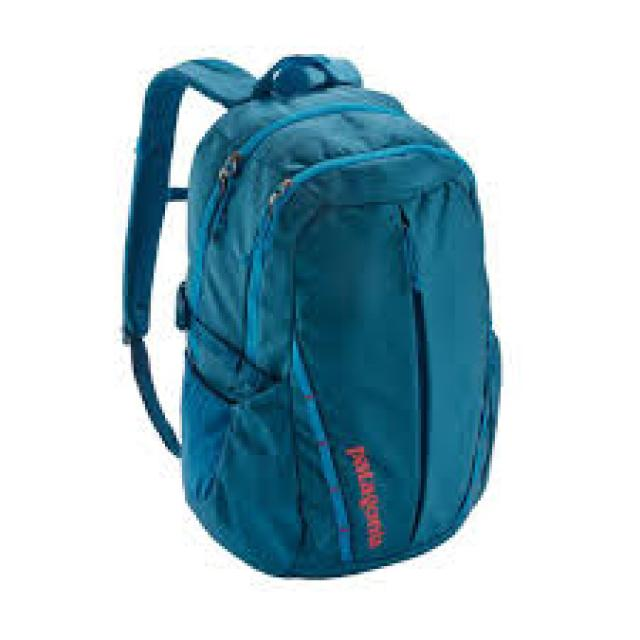backpack: (121, 53, 505, 579)
